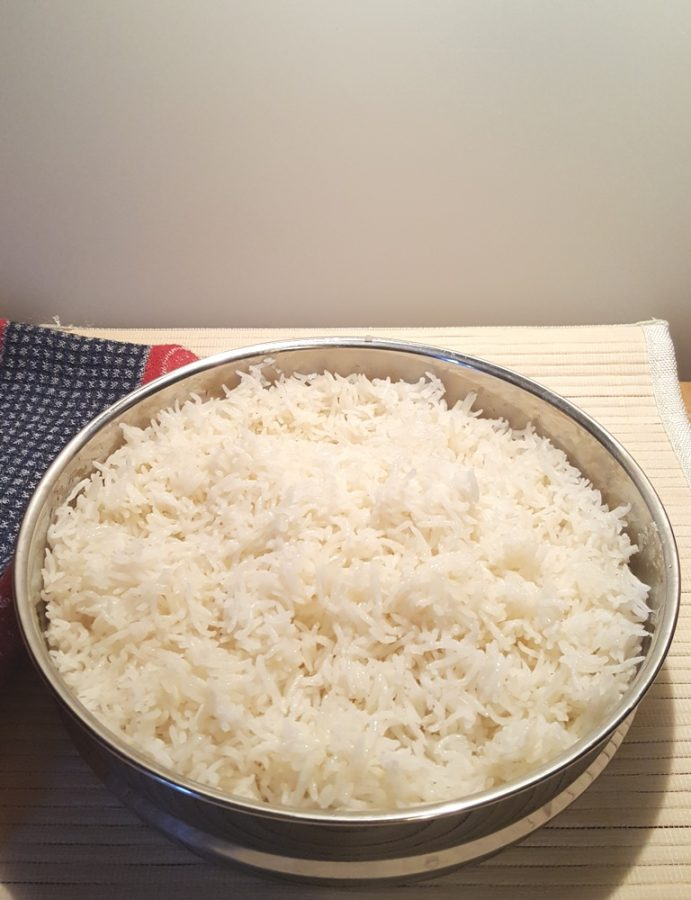rice: (37, 367, 675, 794)
